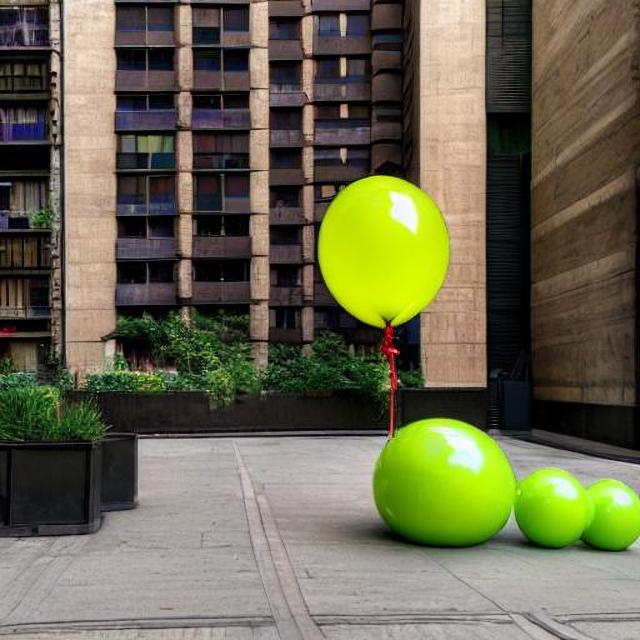balloon: (310, 168, 450, 333), (358, 413, 520, 548), (502, 460, 597, 551), (582, 445, 640, 574)
